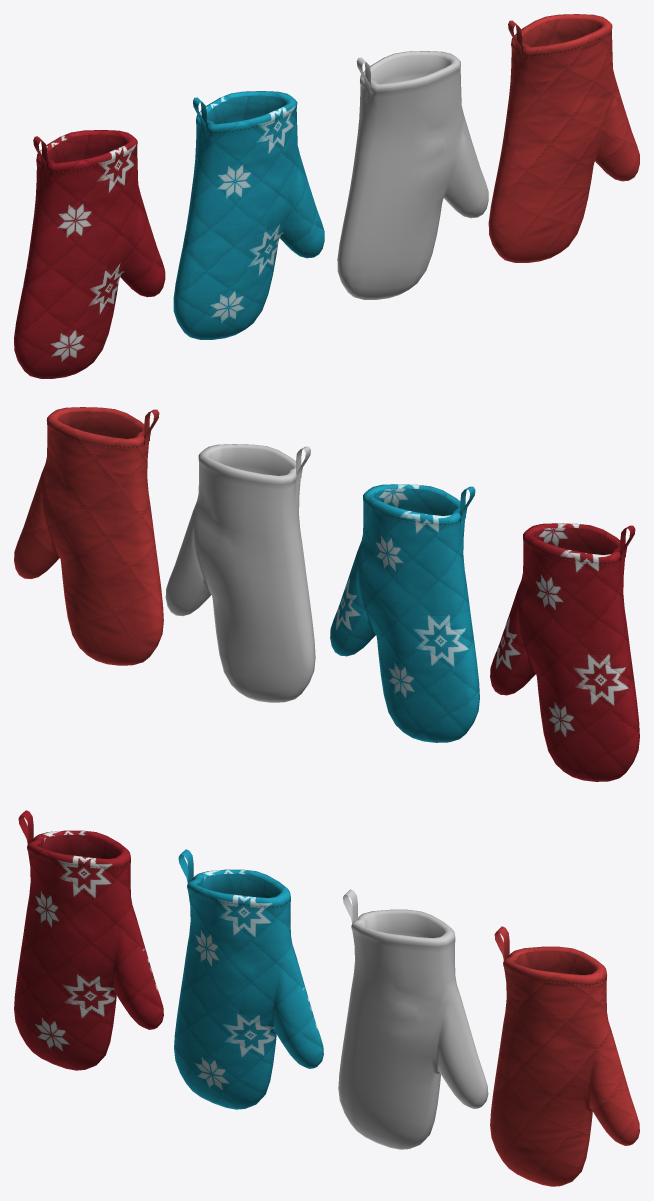
3 renders of one model, top to bottom at view 1: azimuth 30°, elevation 25°; view 2: azimuth 150°, elevation 25°; view 3: azimuth 330°, elevation 25°, orthographic.
Parts seen in each view (by area): view 1: CookingGloves2, CookingGloves, CookingGloves3, CookingGloves1; view 2: CookingGloves1, CookingGloves, CookingGloves3, CookingGloves2; view 3: CookingGloves2, CookingGloves3, CookingGloves, CookingGloves1.
Boxes of the visible parts, x1,y1,x2,y2 form: CookingGloves2: [14, 130, 165, 378]; CookingGloves: [173, 91, 324, 339]; CookingGloves3: [488, 14, 639, 262]; CookingGloves1: [337, 51, 488, 299]; CookingGloves1: [165, 444, 315, 702]; CookingGloves: [330, 484, 479, 742]; CookingGloves3: [14, 407, 163, 665]; CookingGloves2: [490, 523, 639, 781]; CookingGloves2: [14, 810, 163, 1070]; CookingGloves3: [490, 926, 639, 1186]; CookingGloves: [174, 849, 323, 1109]; CookingGloves1: [338, 889, 488, 1149].
Bounding box in the file's own units: 63.57 × 24.77 × 6.06.
